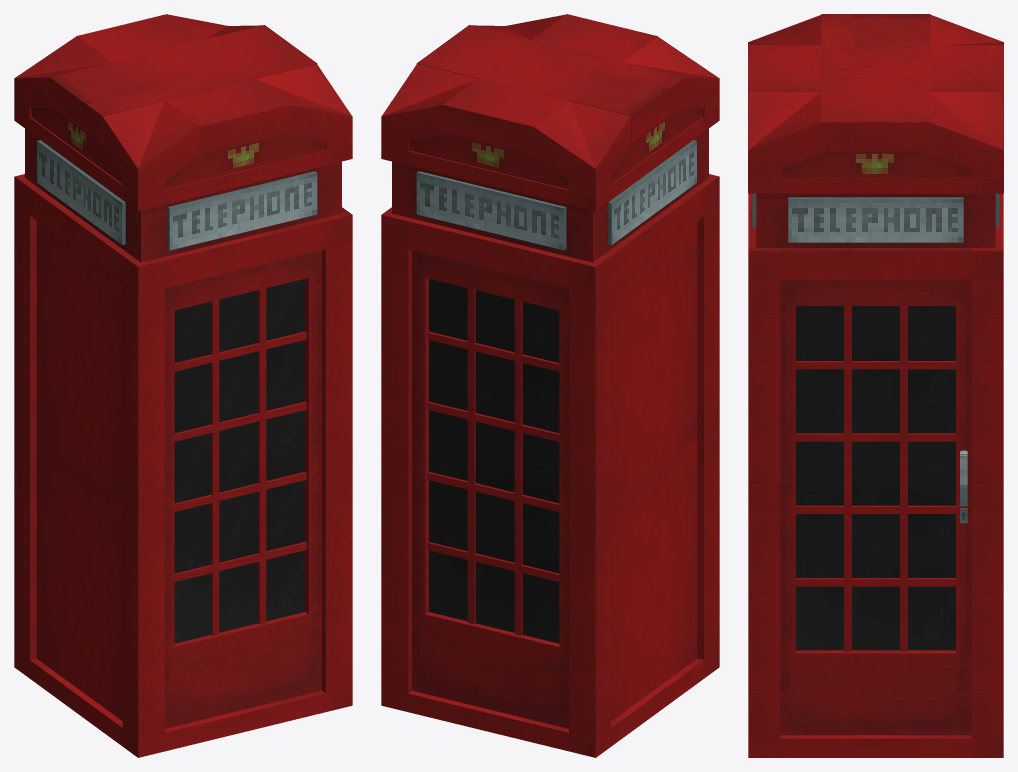
The model's file is london_phonebooth.glb.
3 renders of one model, left to right at view 1: azimuth 30°, elevation 25°; view 2: azimuth 150°, elevation 25°; view 3: azimuth 270°, elevation 25°, orthographic. The views are drawn at different scales.
Parts seen in each view (by area): view 1: Object_2, Object_3, Object_5, Object_4; view 2: Object_2, Object_3, Object_5, Object_4; view 3: Object_2, Object_3, Object_5, Object_4.
Part boxes in pixels (box(x1,y1,x2,y2)): Object_2: box(14, 14, 352, 757); Object_3: box(174, 279, 304, 643); Object_5: box(25, 108, 341, 728); Object_4: box(37, 140, 317, 250); Object_2: box(381, 14, 719, 757); Object_3: box(429, 279, 559, 643); Object_5: box(392, 108, 708, 728); Object_4: box(416, 140, 696, 250); Object_2: box(748, 14, 1003, 757); Object_3: box(796, 306, 955, 650); Object_5: box(756, 151, 995, 735); Object_4: box(752, 193, 999, 523).
Bounding box in the file's own units: 16.28 × 43.94 × 16.02.
Materials: 4 (4 with a texture image).
